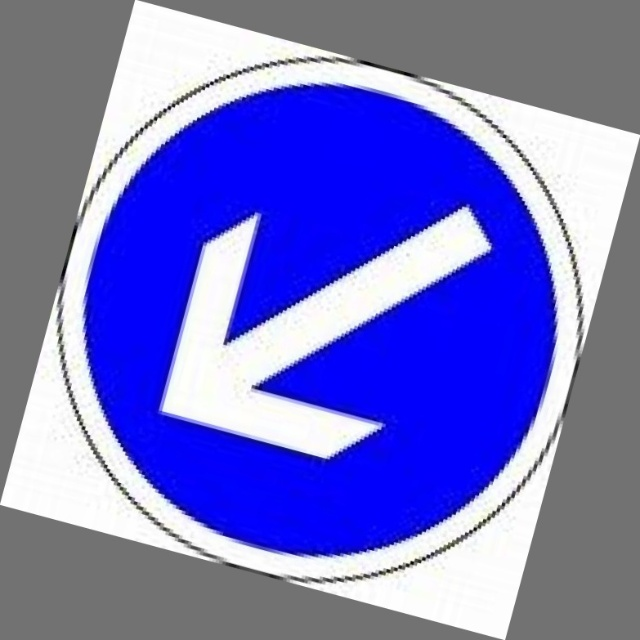R.301e: (1, 0, 637, 636)
